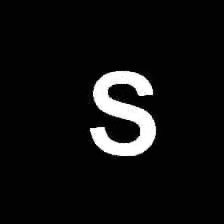LTR_S: (85, 62, 159, 161)
